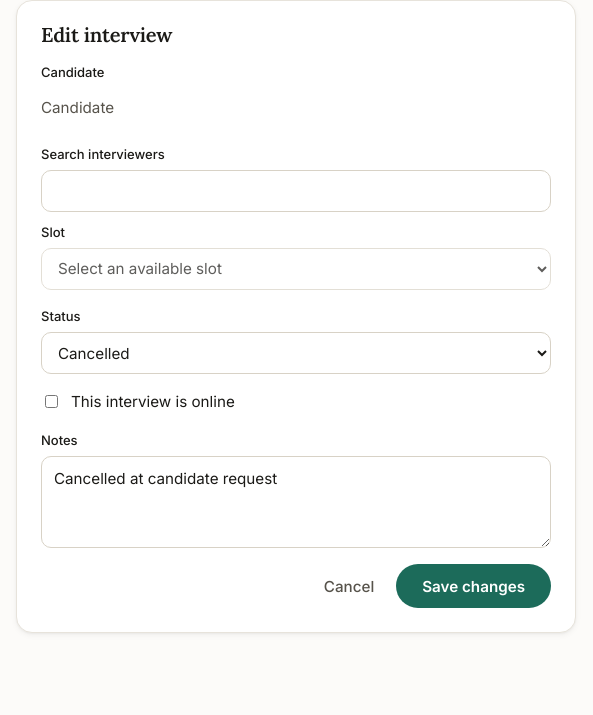
Scenario: cancelled interview editing › requires a slot when reopening a cancelled interview
The width and height of the screenshot is (593, 715).
Select "Scheduled" in the dropdown labelled "Status" at (296, 353), box 41,332 -> 551,374
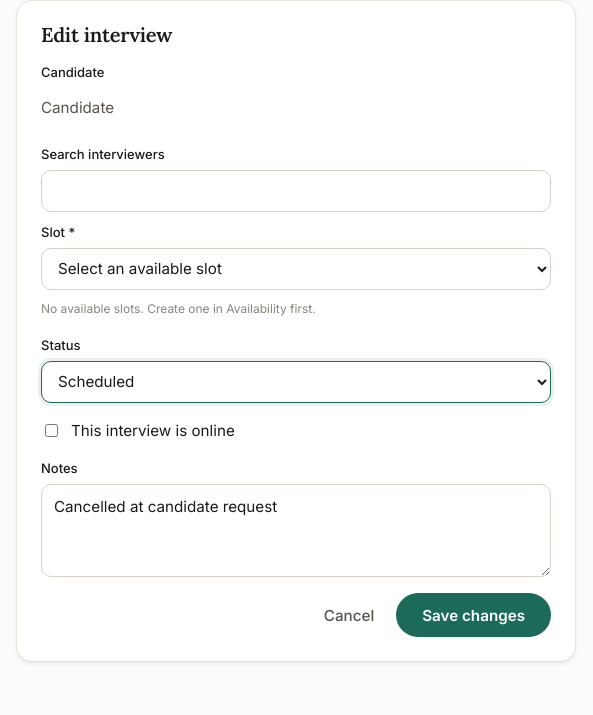
Click the button "Save changes".
click(474, 615)  # box 396,593 -> 551,637
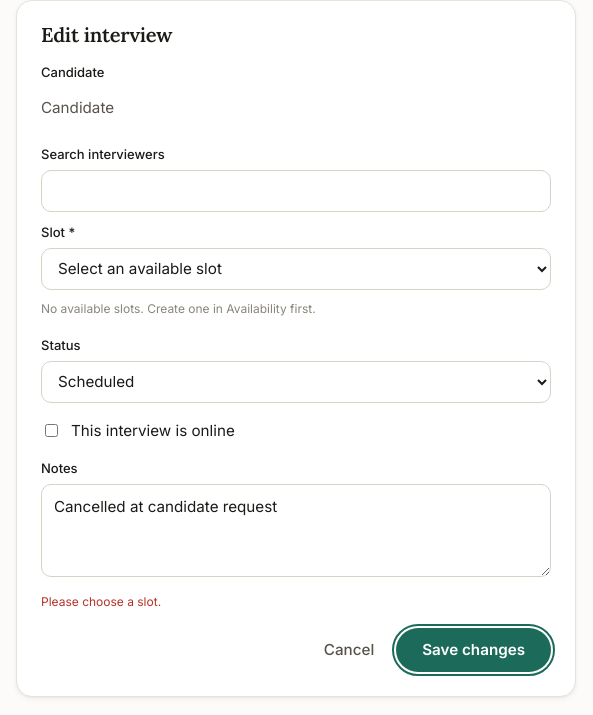
Expected: the text "Please choose a slot." is shown, 41,594 -> 161,609
